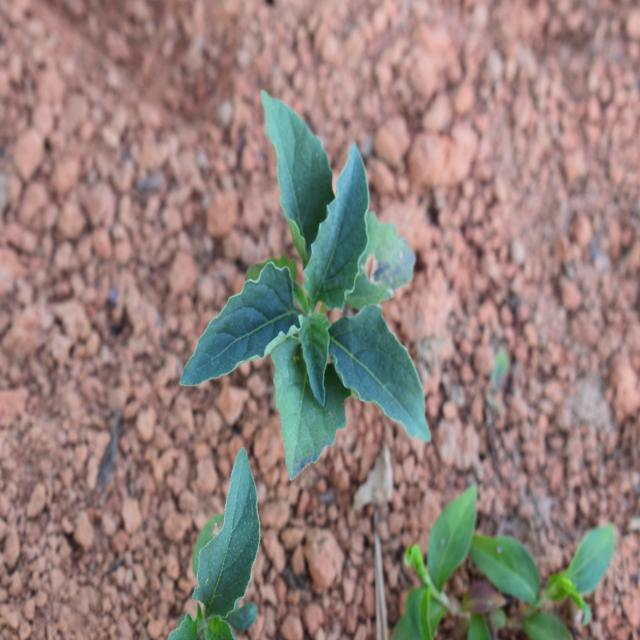Black_nightshade: (192, 129, 441, 467)
